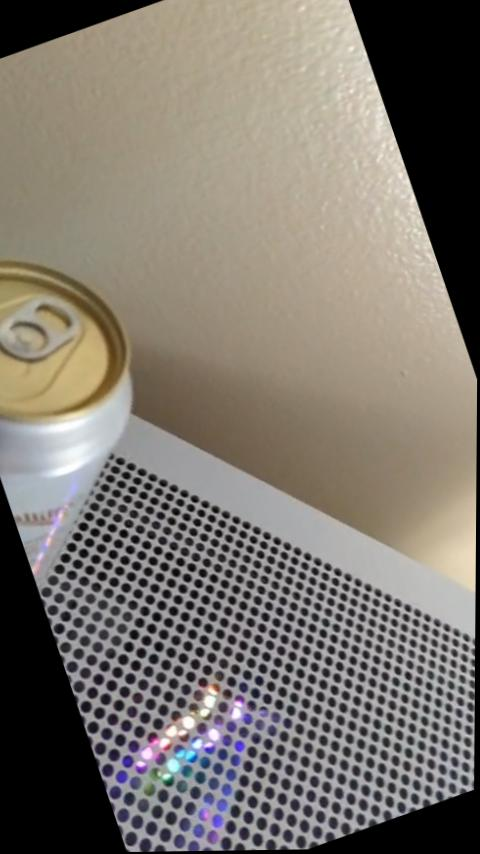plastic: (0, 0, 476, 632)
